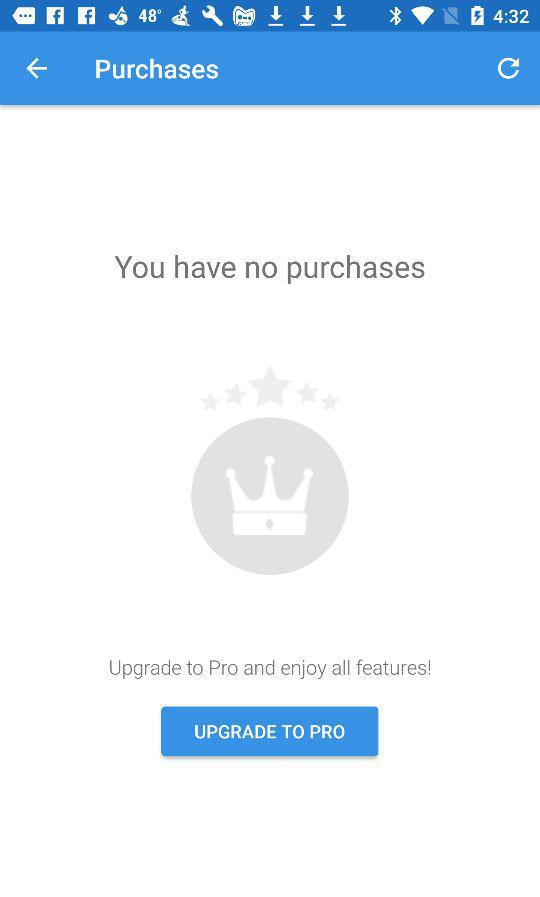Icon: (497, 58, 521, 81), (26, 58, 49, 81)
Image: (191, 417, 350, 576), (201, 364, 340, 412)
Text: (115, 255, 426, 286), (110, 658, 432, 681), (96, 58, 219, 81)
TextButton: (161, 706, 379, 757)
Toolbar: (1, 33, 540, 106)
UpperTaskBar: (1, 1, 540, 33)
